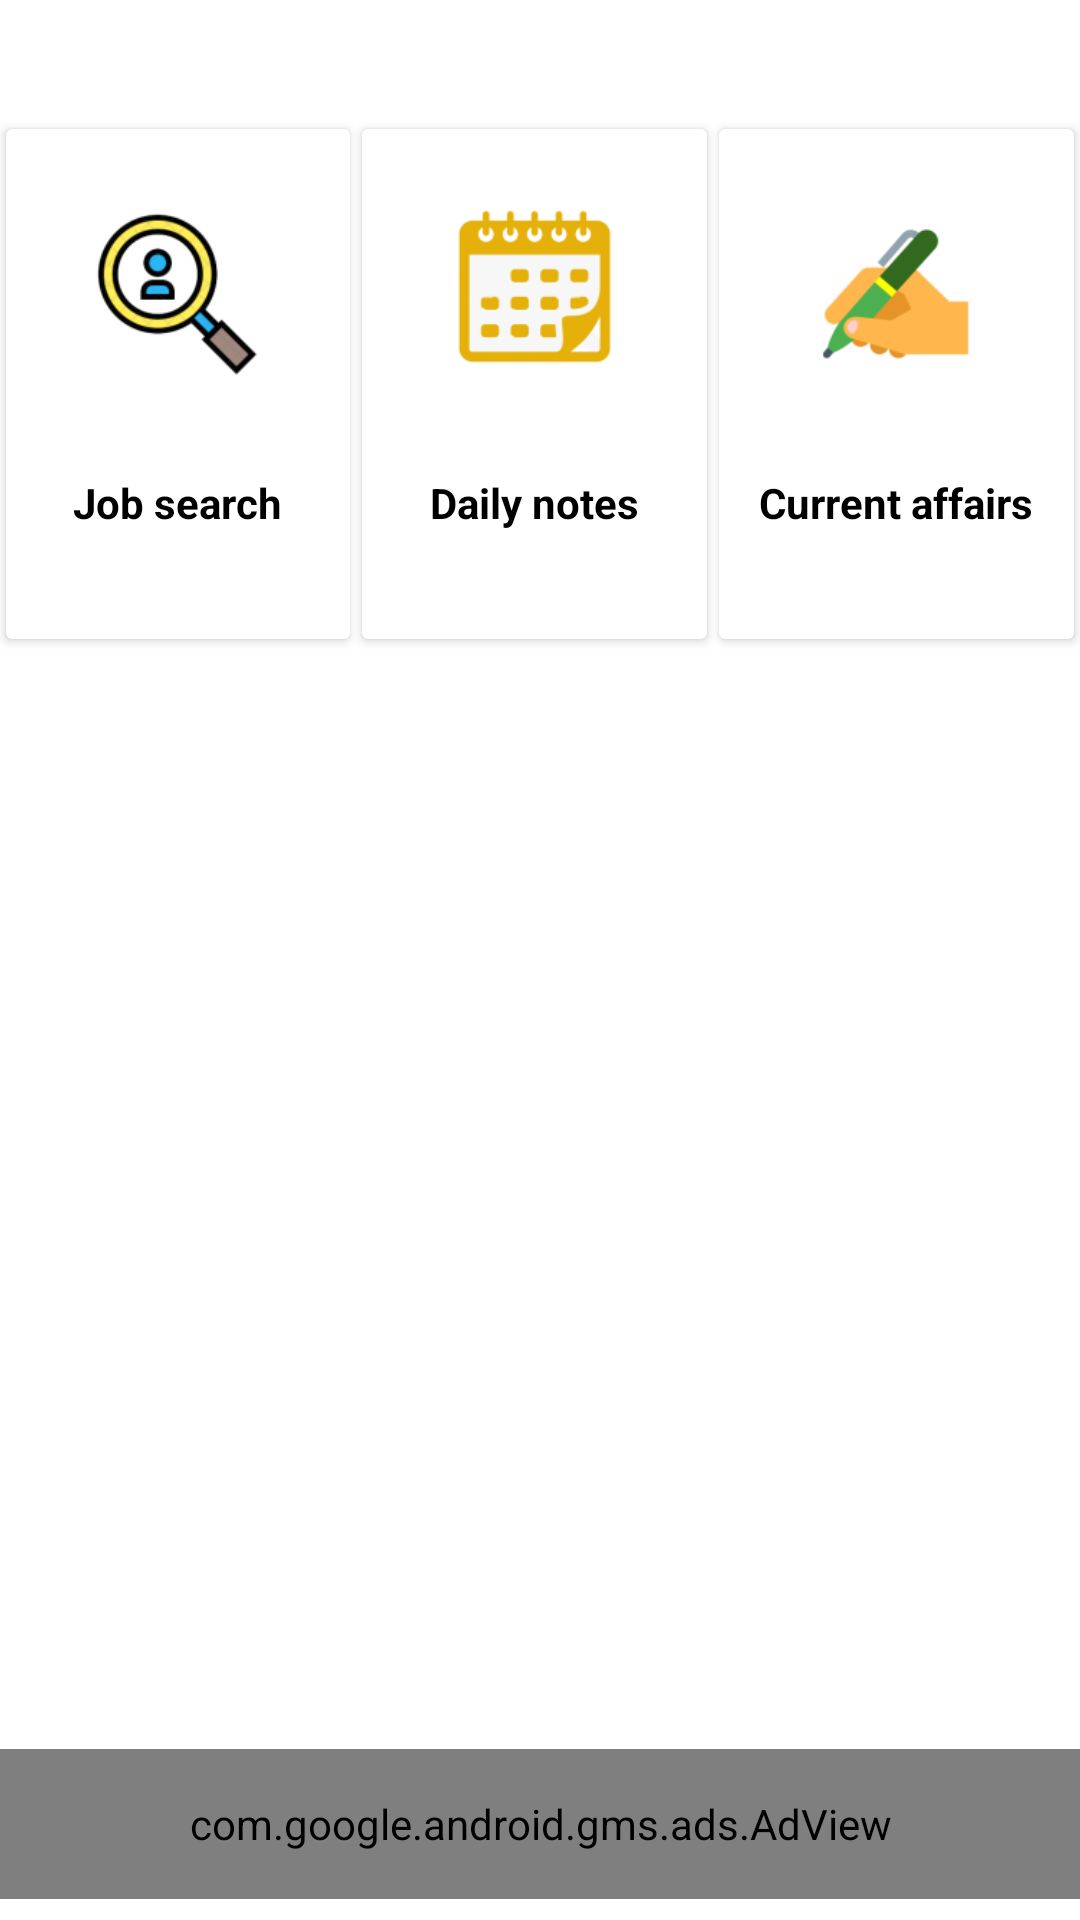

Named icons in this screenshot (1080px x 1920px) and their bounding boxes, bbox(x1, y1, x2, y2):
calender: bbox(458, 210, 611, 363)
pen: bbox(823, 229, 969, 359)
